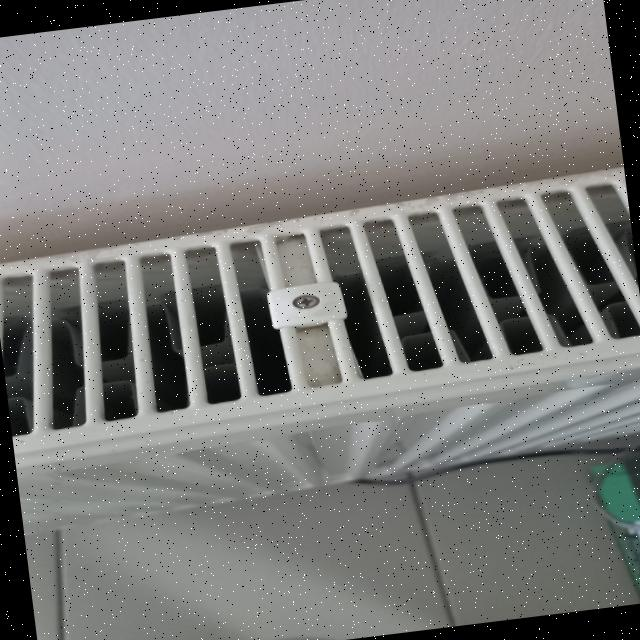Phillips: (262, 280, 346, 322)
